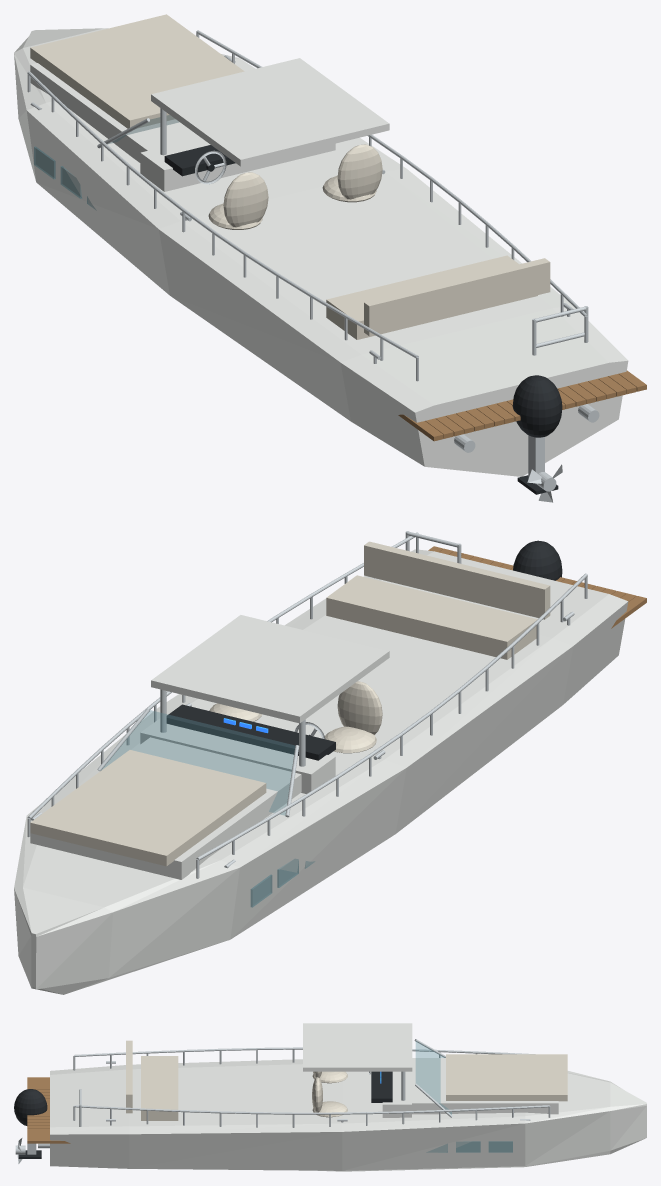
File: boat_yacht.glb
3 views of the same model, one above another, from view 1: azimuth 30°, elevation 25°; view 2: azimuth 150°, elevation 25°; view 3: azimuth 270°, elevation 25° (orthographic). The views are drawn at different scales.
Parts seen in each view (by area): view 1: Hull, Motor_Outboard, Gate_Transom; view 2: Hull, Motor_Outboard; view 3: Hull, Motor_Outboard.
Part boxes in pixels (x1,y1,x2,y2): Hull: (14, 14, 646, 476); Motor_Outboard: (512, 375, 562, 494); Gate_Transom: (532, 306, 588, 355); Hull: (14, 532, 646, 994); Motor_Outboard: (513, 540, 562, 580); Hull: (27, 1023, 646, 1171); Motor_Outboard: (14, 1089, 47, 1158).
Size of what is drawn, in the model's own units: 3.45 by 2.75 by 12.47.
